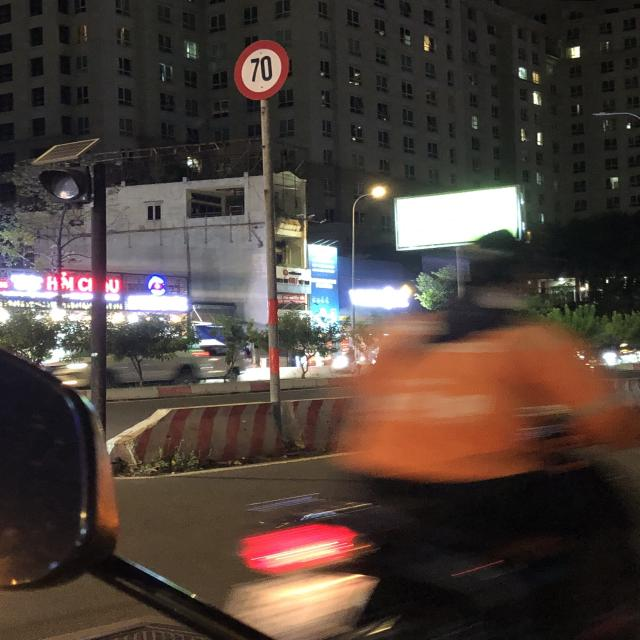Bien bao toc do toi da cho phep: (231, 36, 295, 100)
